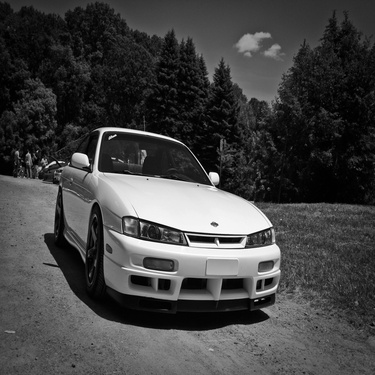car: (45, 122, 285, 317), (33, 152, 67, 183), (97, 145, 129, 171), (55, 154, 79, 185), (36, 161, 70, 182)
